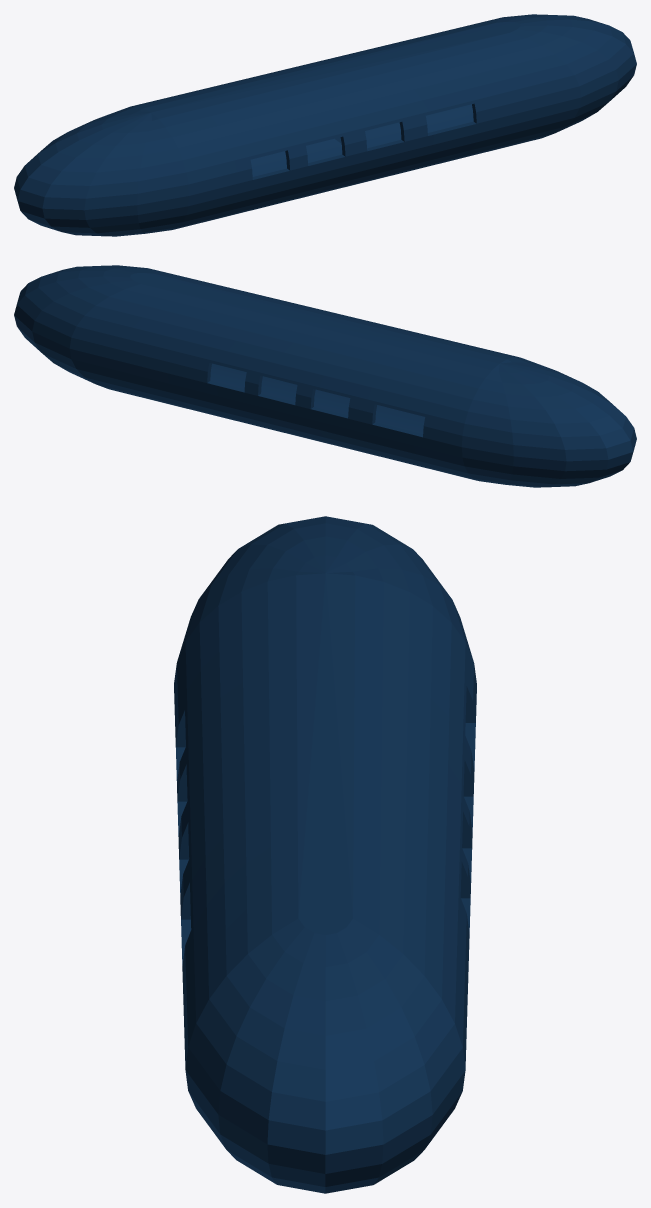
The model's file is pod.fbx.
3 renders of one model, top to bottom at view 1: azimuth 30°, elevation 25°; view 2: azimuth 150°, elevation 25°; view 3: azimuth 270°, elevation 25°, orthographic. The views are drawn at different scales.
Visible parts, largest first — view 1: Sphere.001, Sphere.005; view 2: Sphere.001, Sphere.005; view 3: Sphere.001.
Part boxes in pixels (box(x1,y1,x2,y2)): Sphere.001: box(14, 14, 636, 236); Sphere.005: box(250, 104, 473, 176); Sphere.001: box(14, 265, 636, 487); Sphere.005: box(210, 363, 425, 434); Sphere.001: box(174, 516, 476, 1193).
Bounding box in the file's own units: 3352 × 580 × 715.
